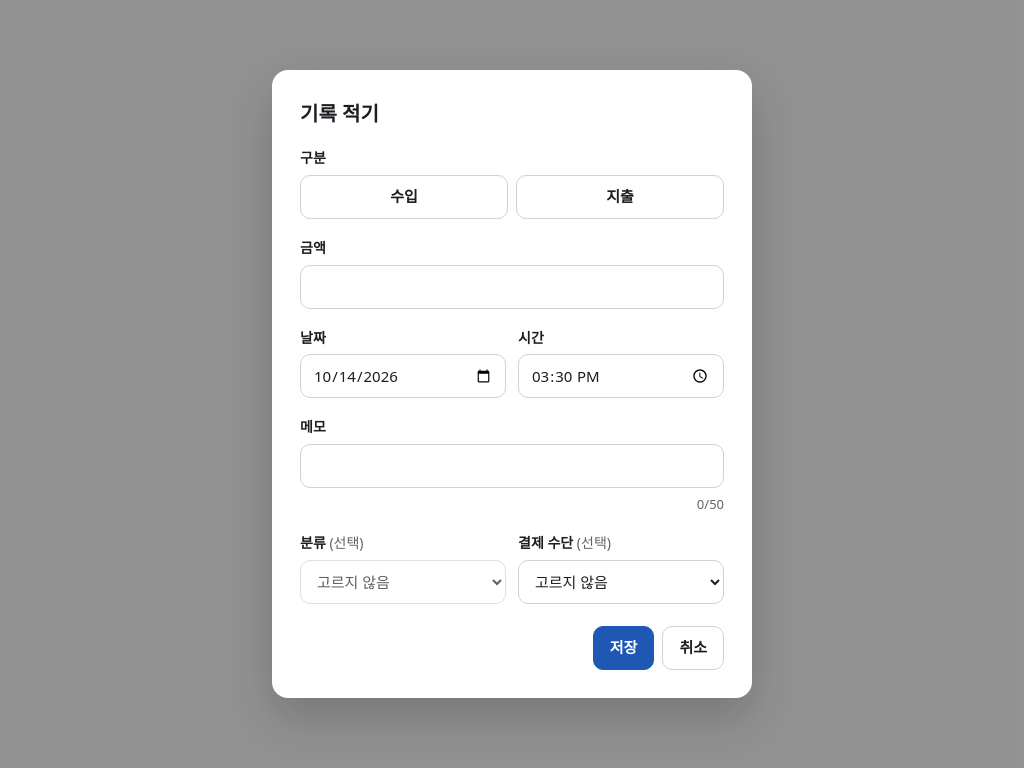
T-121 화면 검사 알림 › 구분 안 고름
The image size is (1024, 768).
Type "12000" into the field labelled "금액" at (512, 287), box [300, 265, 724, 309]
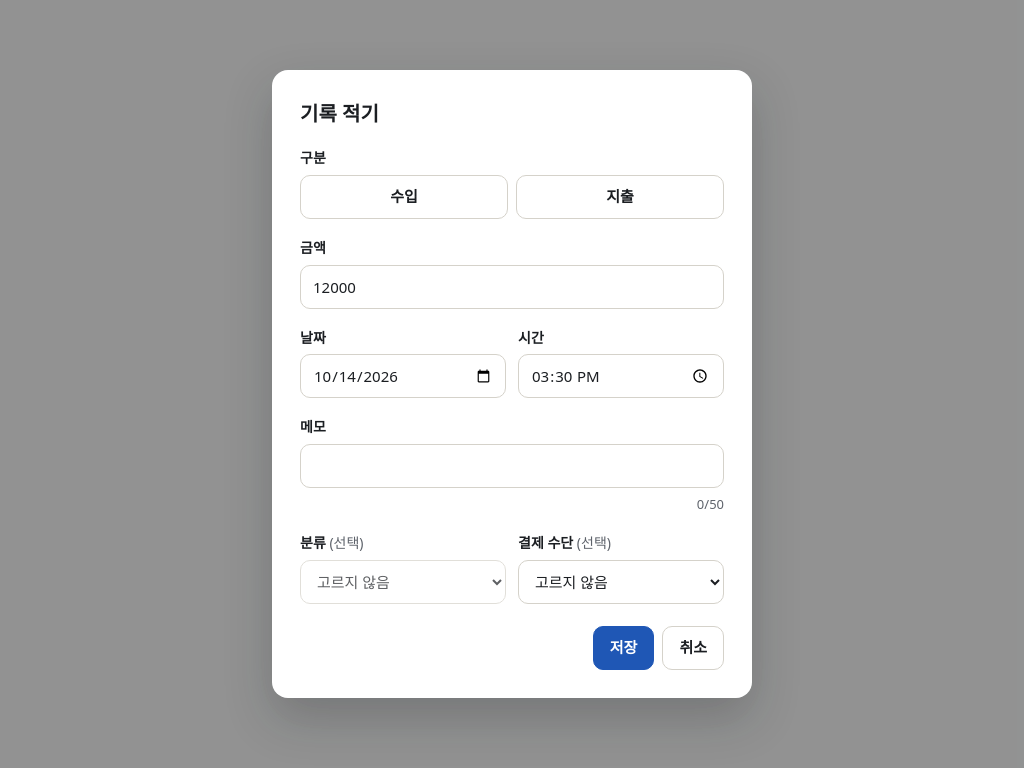
Type "점심" into the field labelled "메모" at (512, 466), box [300, 444, 724, 488]
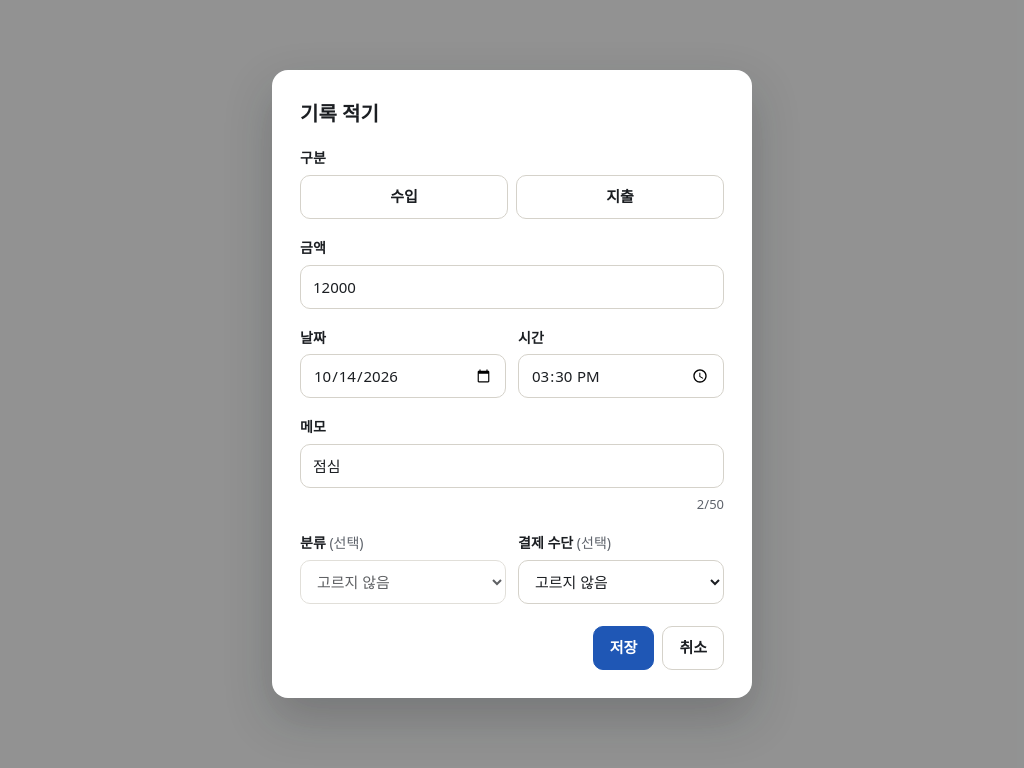
Click the button "저장" at (624, 648), box [593, 626, 654, 670]
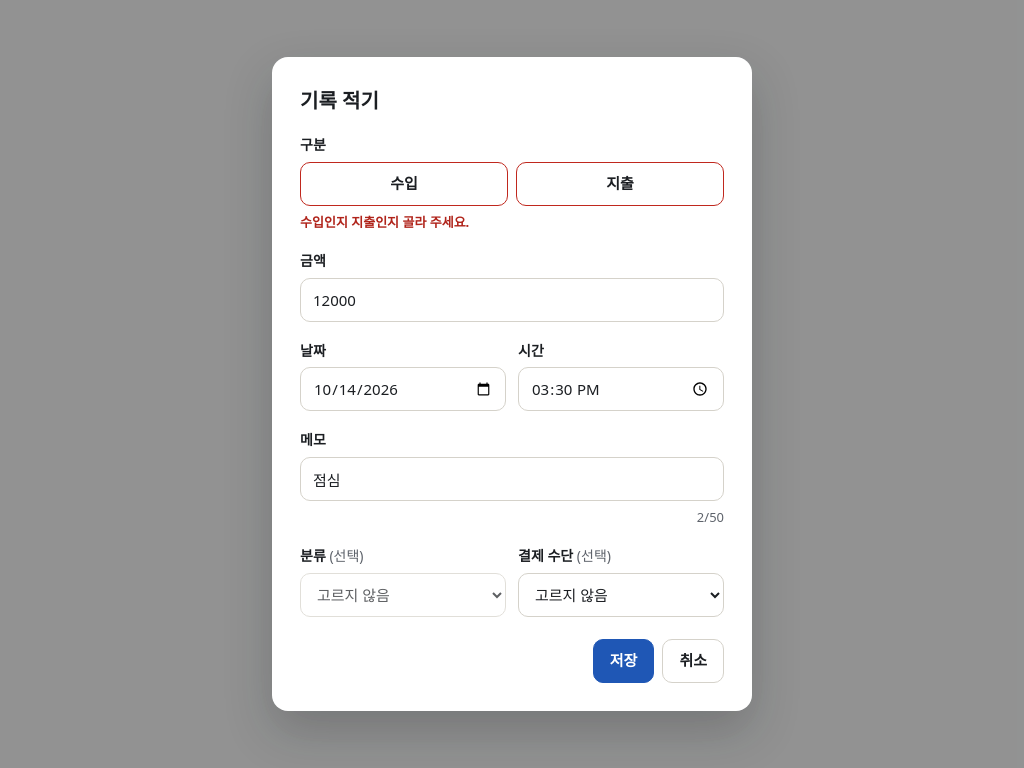
Result: the text "수입인지 지출인지 골라 주세요." is shown at [300, 213, 469, 231]
